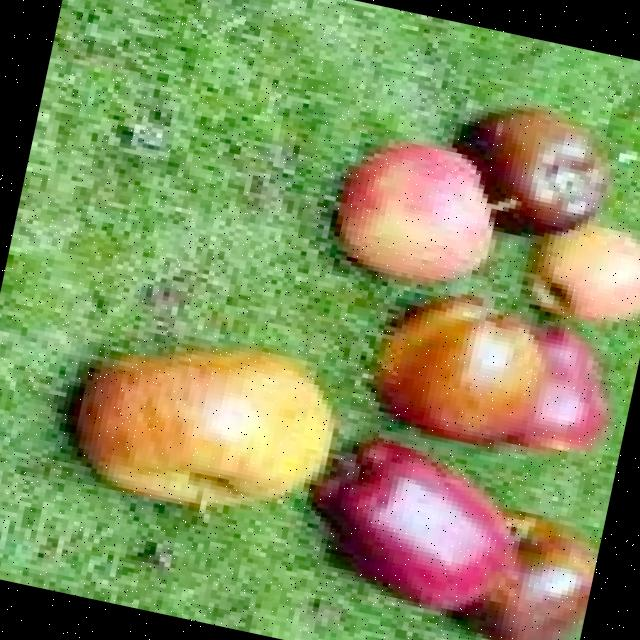Good_Apple 10-21 days: (75, 350, 331, 505), (313, 439, 513, 609), (337, 142, 490, 278)
